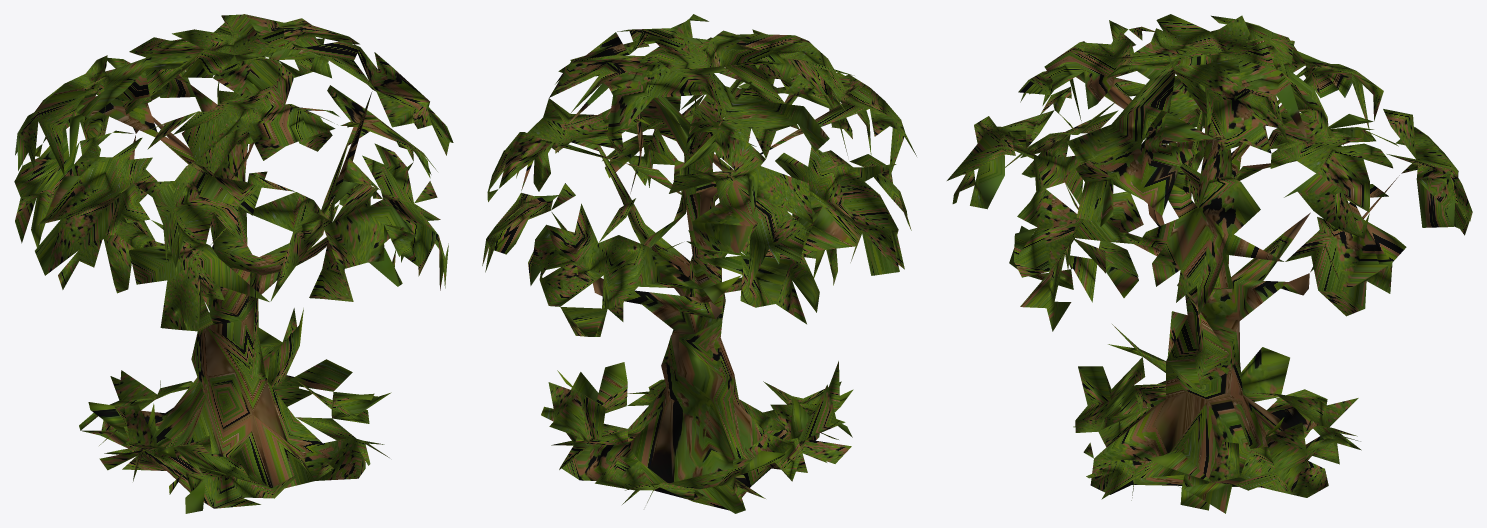
File: raintree-far.glb
The picture shows the model from 3 angles, left to right: view 1: azimuth 30°, elevation 25°; view 2: azimuth 150°, elevation 25°; view 3: azimuth 270°, elevation 25°; orthographic projection. The views are drawn at different scales.
Visible parts, largest first — view 1: tripo_node_444a3f3c-3e28-434c-9027-f496572cd26c; view 2: tripo_node_444a3f3c-3e28-434c-9027-f496572cd26c; view 3: tripo_node_444a3f3c-3e28-434c-9027-f496572cd26c.
Part boxes in pixels (bbox=[...]): tripo_node_444a3f3c-3e28-434c-9027-f496572cd26c: bbox=[14, 14, 453, 513]; tripo_node_444a3f3c-3e28-434c-9027-f496572cd26c: bbox=[482, 14, 916, 513]; tripo_node_444a3f3c-3e28-434c-9027-f496572cd26c: bbox=[947, 14, 1472, 513].
Size of the model in its own units: 0.8421 by 0.8626 by 0.985.
1 material, 1 textured.
